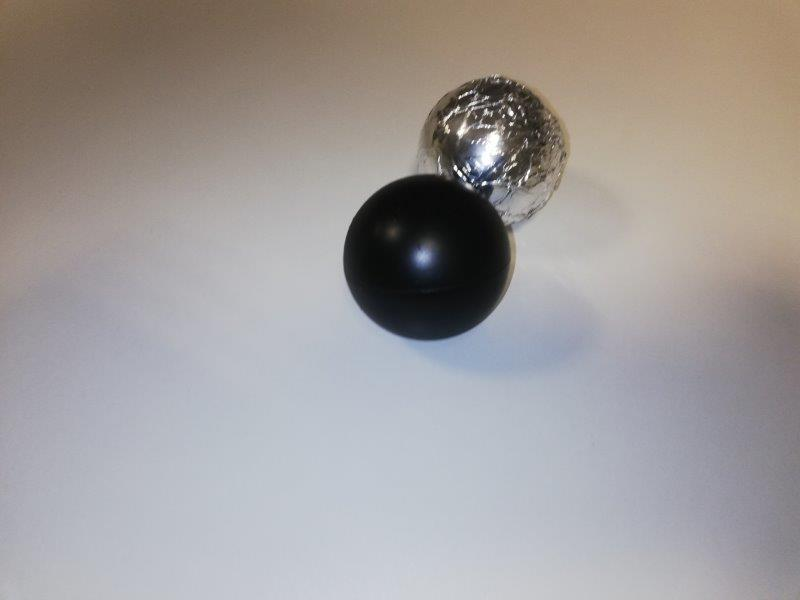bianca: (419, 75, 567, 223)
nera: (343, 174, 511, 343)
